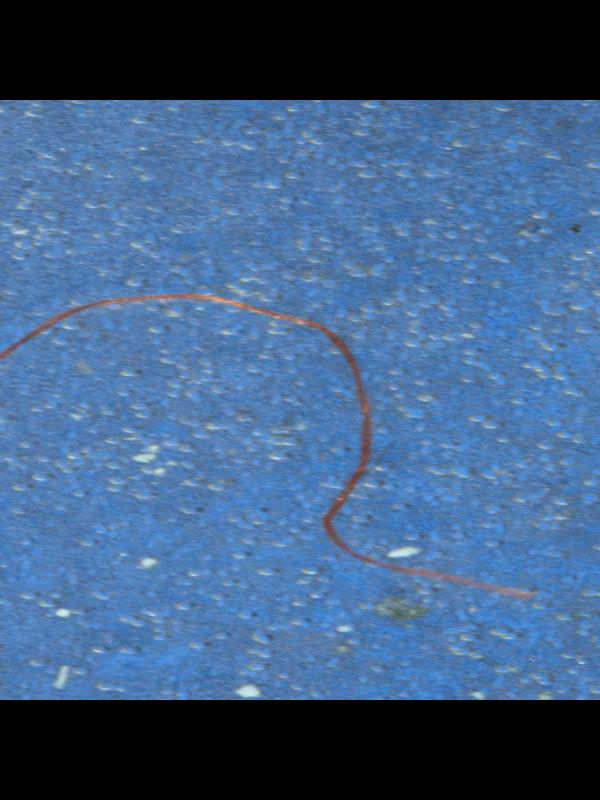microplastic: (0, 102, 600, 699), (0, 293, 536, 602)
